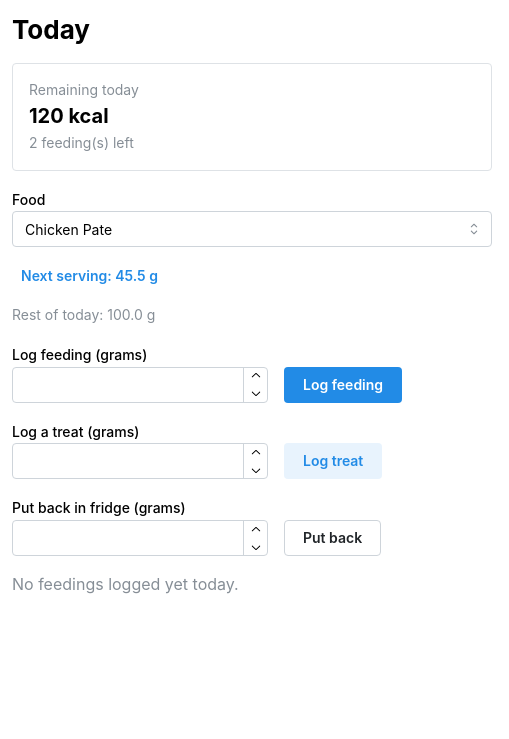
Scenario: TodayScreen › shows the server error when logging a feeding fails
Expected: the text "120 kcal" is shown, [29,104,109,128]
Type "500" into the field labelled "Log feeding (grams)". click: (140, 385)
box: [12,367,268,403]
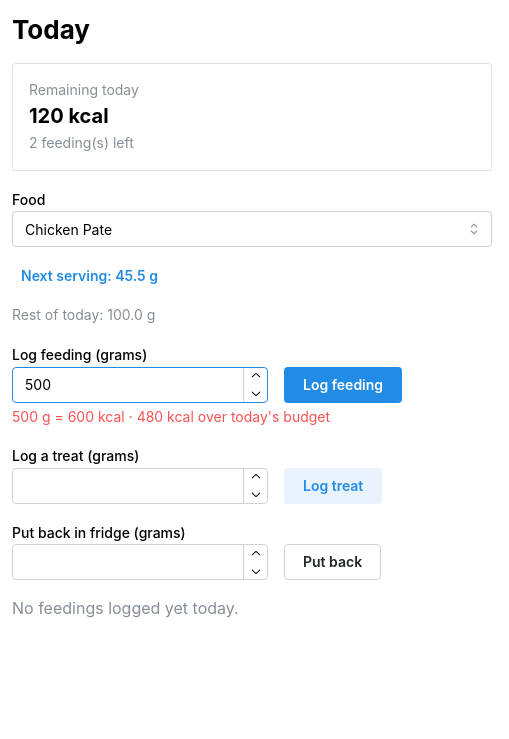
Click the button "Log feeding". click: (343, 385)
box: [284,367,402,403]
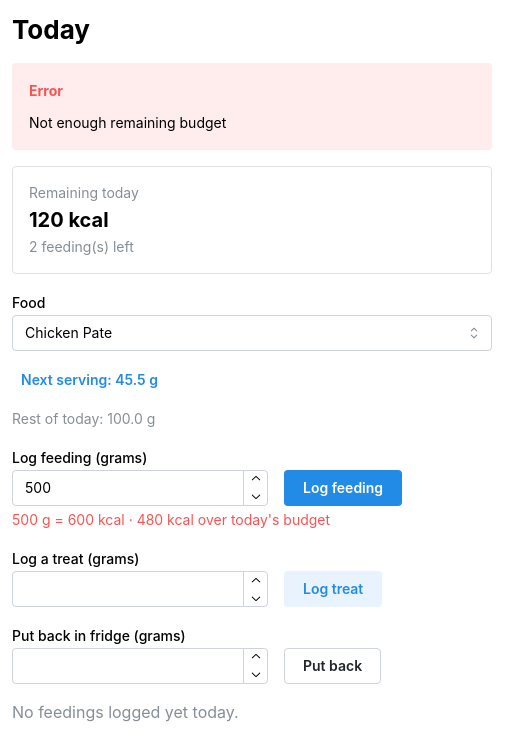
Expected: the text "Not enough remaining budget" is shown, [29,114,226,131]
